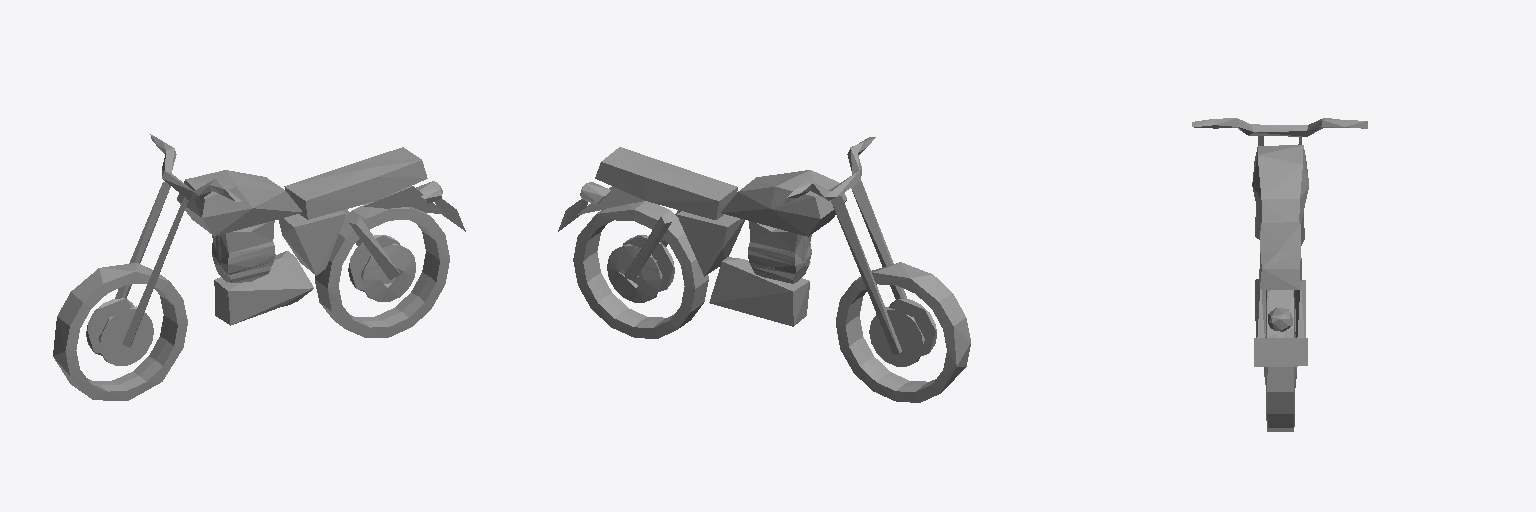
The model's file is motoSimples.obj.
3 renders of one model, left to right at view 1: azimuth 30°, elevation 25°; view 2: azimuth 150°, elevation 25°; view 3: azimuth 270°, elevation 25°, orthographic.
Visible parts, largest first — view 1: Front_wheel_Cylinder.016, Rear_wheel_Cylinder.023, Seat_Cube.001, Gas_Tank_Cube, Engine_2_Cube.003, Engine_1_Cube.002, Engine_3_Cube.004, Steering_Cylinder.009, Front_bumper_right_Cylinder.002, Front_bumper_left_Cylinder.004, Rear_water_Cube.005, rea_bumper_right_Cylinder.005; view 2: Front_wheel_Cylinder.016, Rear_wheel_Cylinder.023, Seat_Cube.001, Gas_Tank_Cube, Engine_2_Cube.003, Engine_1_Cube.002, Engine_3_Cube.004, Front_bumper_left_Cylinder.004, Steering_Cylinder.009, Front_bumper_right_Cylinder.002, Rear_bumper_left_Cylinder.006, Rear_water_Cube.005; view 3: Gas_Tank_Cube, Seat_Cube.001, Rear_wheel_Cylinder.023, Steering_Cylinder.009, Licence_plate_Cube.007, rea_bumper_right_Cylinder.005, Rear_bumper_left_Cylinder.006.
Part boxes in pixels (left/top/right/bottom): Front_wheel_Cylinder.016: left=53, top=263, right=187, bottom=400; Rear_wheel_Cylinder.023: left=315, top=206, right=449, bottom=337; Seat_Cube.001: left=284, top=147, right=427, bottom=219; Gas_Tank_Cube: left=177, top=170, right=302, bottom=236; Engine_2_Cube.003: left=214, top=251, right=313, bottom=325; Engine_1_Cube.002: left=212, top=220, right=275, bottom=282; Engine_3_Cube.004: left=278, top=211, right=345, bottom=275; Steering_Cylinder.009: left=150, top=134, right=241, bottom=201; Front_bumper_right_Cylinder.002: left=122, top=197, right=188, bottom=347; Front_bumper_left_Cylinder.004: left=115, top=182, right=170, bottom=298; Rear_water_Cube.005: left=363, top=186, right=446, bottom=214; rea_bumper_right_Cylinder.005: left=349, top=217, right=400, bottom=279; Front_wheel_Cylinder.016: left=836, top=262, right=970, bottom=402; Rear_wheel_Cylinder.023: left=573, top=201, right=708, bottom=338; Seat_Cube.001: left=595, top=147, right=737, bottom=219; Gas_Tank_Cube: left=721, top=170, right=846, bottom=236; Engine_2_Cube.003: left=709, top=257, right=809, bottom=326; Engine_1_Cube.002: left=748, top=221, right=811, bottom=283; Engine_3_Cube.004: left=677, top=211, right=744, bottom=276; Front_bumper_left_Cylinder.004: left=831, top=196, right=901, bottom=354; Steering_Cylinder.009: left=784, top=137, right=875, bottom=204; Front_bumper_right_Cylinder.002: left=851, top=181, right=906, bottom=298; Rear_bumper_left_Cylinder.006: left=624, top=217, right=671, bottom=280; Rear_water_Cube.005: left=577, top=186, right=644, bottom=214; Gas_Tank_Cube: left=1252, top=145, right=1308, bottom=224; Seat_Cube.001: left=1259, top=222, right=1301, bottom=289; Rear_wheel_Cylinder.023: left=1264, top=292, right=1296, bottom=431; Steering_Cylinder.009: left=1192, top=118, right=1367, bottom=136; Licence_plate_Cube.007: left=1254, top=338, right=1307, bottom=366; rea_bumper_right_Cylinder.005: left=1255, top=279, right=1265, bottom=337; Rear_bumper_left_Cylinder.006: left=1296, top=280, right=1305, bottom=337.
Bounding box in the file's own units: 7.31 × 3.83 × 2.84.